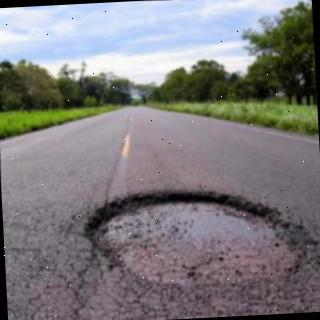pothole: (89, 192, 302, 280)
